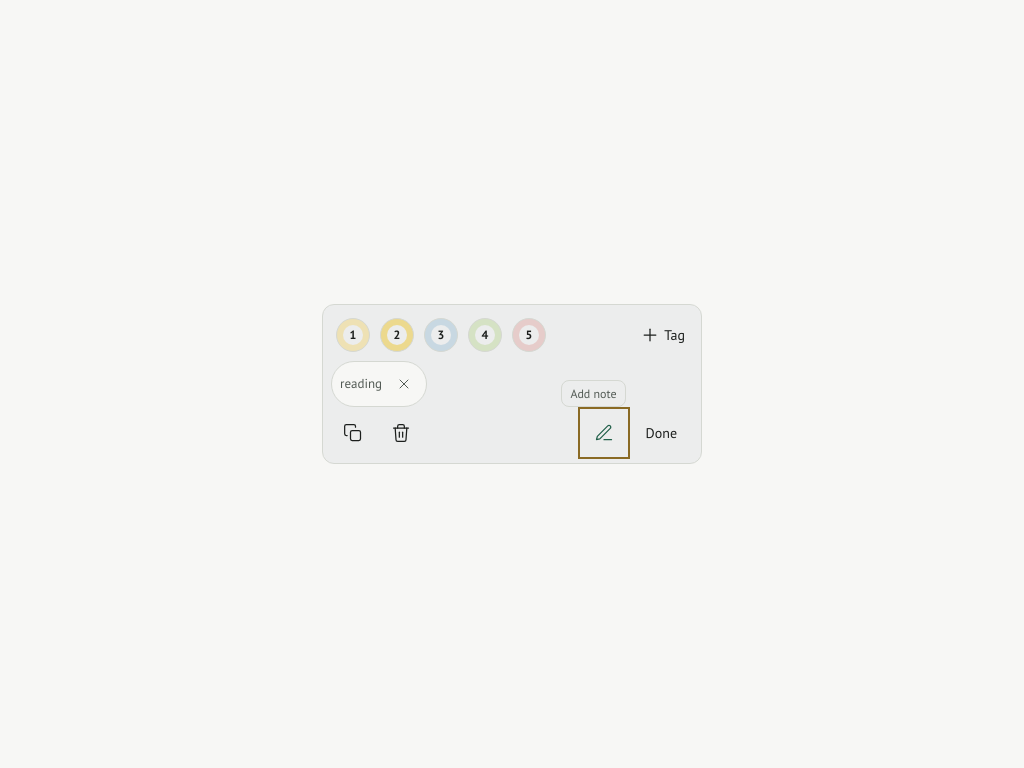
it: annotation panel slot pills (issue #222) › a failed apply surfaces the inline 'Couldn't apply slot.' — never a success word
What coordinates should you click on to do the following:
click the button named "Apply slot 2: Yellow"
I would click on:
 (397, 335)
Its box is x1=375 y1=313 x2=419 y2=357.
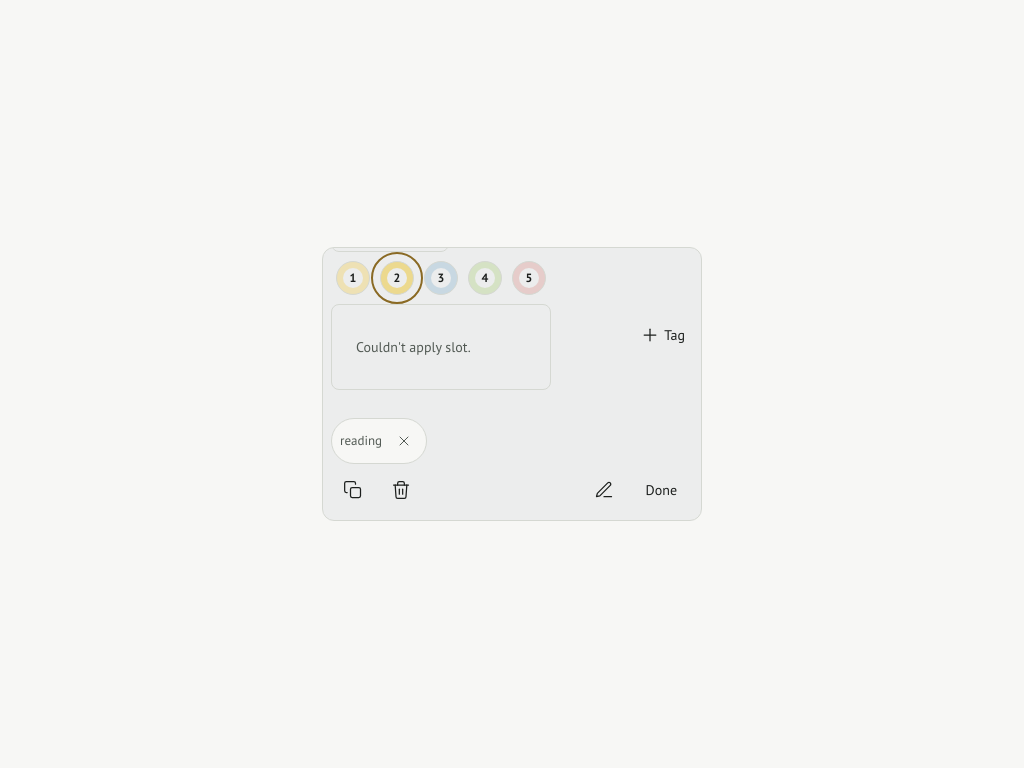
Expected: the text "Couldn't apply slot." is shown, x1=356 y1=338 x2=471 y2=356
